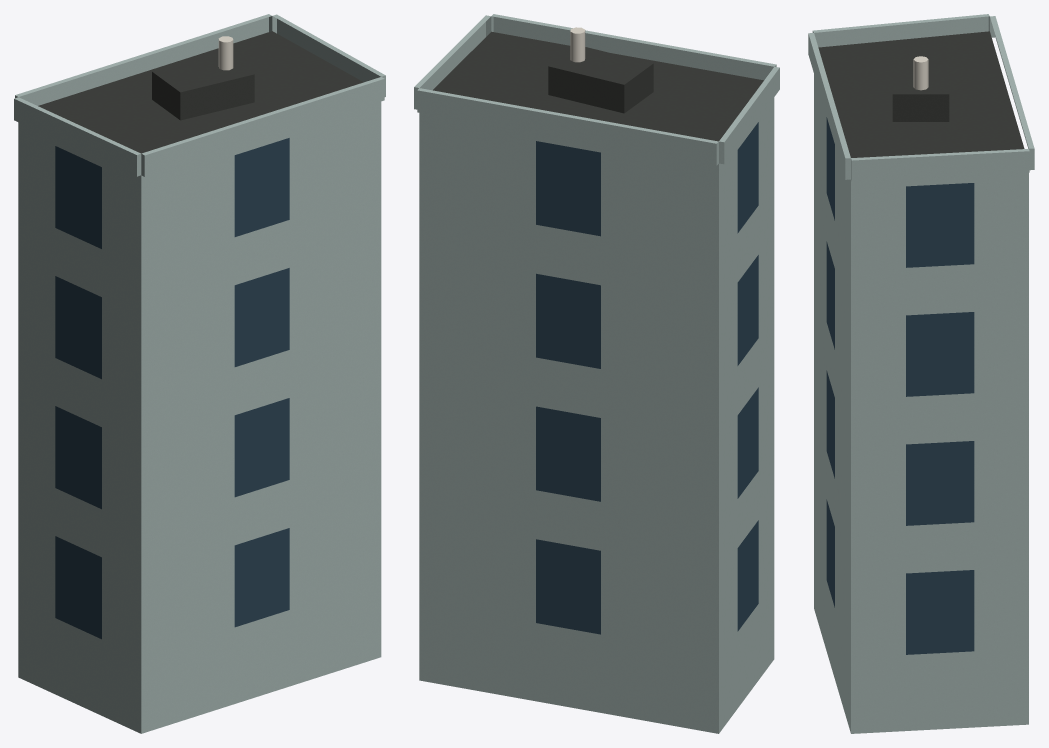
3 renders of one model, left to right at view 1: azimuth 30°, elevation 25°; view 2: azimuth 150°, elevation 25°; view 3: azimuth 270°, elevation 25°, orthographic. The views are drawn at different scales.
Parts seen in each view (by area): view 1: Footprint 0 / surface 2, Inset glazing, Facade bay volumes, Footprint 0 / surface 1, Inferred rooftop service enclosure / surface 5, Inferred rooftop service enclosure / surface 3, Inferred rooftop service enclosure / surface 2; view 2: Footprint 0 / surface 2, Inset glazing, Facade bay volumes, Footprint 0 / surface 1, Inferred rooftop service enclosure / surface 6, Inferred rooftop service enclosure / surface 3, Inferred rooftop service enclosure / surface 2; view 3: Footprint 0 / surface 2, Inset glazing, Footprint 0 / surface 1, Facade bay volumes, Inferred rooftop service enclosure / surface 3, Inferred rooftop service enclosure / surface 1, Inferred rooftop vent / surface 1.
Part boxes in pixels (bbox=[...]): Footprint 0 / surface 2: bbox=[18, 101, 381, 733]; Inset glazing: bbox=[55, 138, 289, 639]; Facade bay volumes: bbox=[14, 14, 385, 176]; Footprint 0 / surface 1: bbox=[38, 31, 363, 153]; Inferred rooftop service enclosure / surface 5: bbox=[180, 74, 254, 120]; Inferred rooftop service enclosure / surface 3: bbox=[152, 55, 254, 92]; Inferred rooftop service enclosure / surface 2: bbox=[152, 72, 180, 119]; Footprint 0 / surface 2: bbox=[419, 97, 774, 733]; Inset glazing: bbox=[536, 122, 758, 634]; Facade bay volumes: bbox=[414, 14, 779, 165]; Footprint 0 / surface 1: bbox=[433, 31, 763, 141]; Inferred rooftop service enclosure / surface 6: bbox=[548, 66, 624, 113]; Inferred rooftop service enclosure / surface 3: bbox=[549, 47, 653, 84]; Inferred rooftop service enclosure / surface 2: bbox=[624, 63, 653, 113]; Footprint 0 / surface 2: bbox=[814, 74, 1028, 733]; Inset glazing: bbox=[826, 117, 974, 654]; Footprint 0 / surface 1: bbox=[818, 31, 1024, 157]; Facade bay volumes: bbox=[808, 14, 1034, 181]; Inferred rooftop service enclosure / surface 3: bbox=[892, 58, 949, 94]; Inferred rooftop service enclosure / surface 1: bbox=[892, 94, 949, 121]; Inferred rooftop vent / surface 1: bbox=[913, 59, 928, 90].
Bounding box in the file's own units: 7.33 × 14.38 × 4.78.
